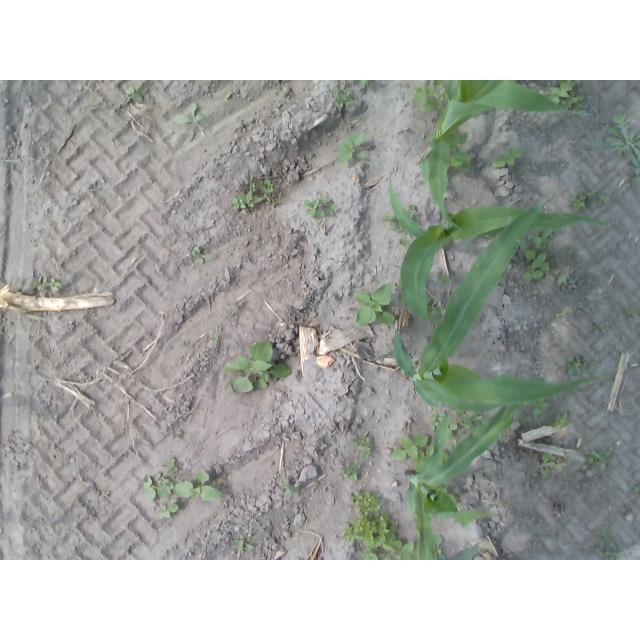Maize: (391, 195, 597, 405), (386, 169, 610, 319), (422, 81, 591, 232), (398, 405, 514, 560)
Weeds: (343, 490, 417, 560), (224, 339, 291, 394), (418, 129, 472, 175), (518, 229, 560, 282), (392, 434, 449, 473), (351, 283, 398, 326), (176, 470, 224, 503), (606, 113, 640, 156), (233, 179, 280, 210), (546, 81, 584, 116), (172, 102, 205, 142), (380, 205, 421, 236), (409, 82, 448, 114), (539, 450, 575, 478), (456, 406, 488, 435), (142, 472, 174, 501), (338, 132, 367, 164), (430, 410, 459, 441), (595, 526, 621, 560), (570, 191, 609, 213), (303, 194, 337, 219), (523, 399, 550, 424), (566, 354, 599, 374), (492, 149, 524, 168), (332, 85, 355, 111), (351, 433, 374, 459), (583, 450, 610, 470), (122, 83, 146, 105), (31, 275, 61, 292), (191, 246, 217, 264), (423, 304, 445, 324), (341, 463, 363, 481), (549, 412, 571, 429), (156, 504, 179, 520), (433, 534, 447, 560), (393, 284, 407, 309), (630, 153, 640, 183), (281, 478, 299, 494), (233, 539, 253, 553), (165, 459, 179, 474), (435, 275, 453, 286), (593, 321, 607, 335), (399, 238, 414, 250), (631, 483, 640, 497), (558, 273, 569, 284), (359, 81, 373, 88), (556, 311, 569, 318), (626, 307, 635, 316), (212, 336, 220, 344), (224, 93, 232, 100)
